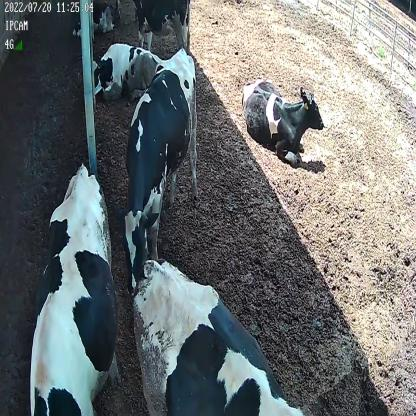cow: (131, 257, 301, 416), (27, 164, 116, 415), (121, 45, 200, 305), (238, 76, 325, 164), (91, 39, 167, 107)
